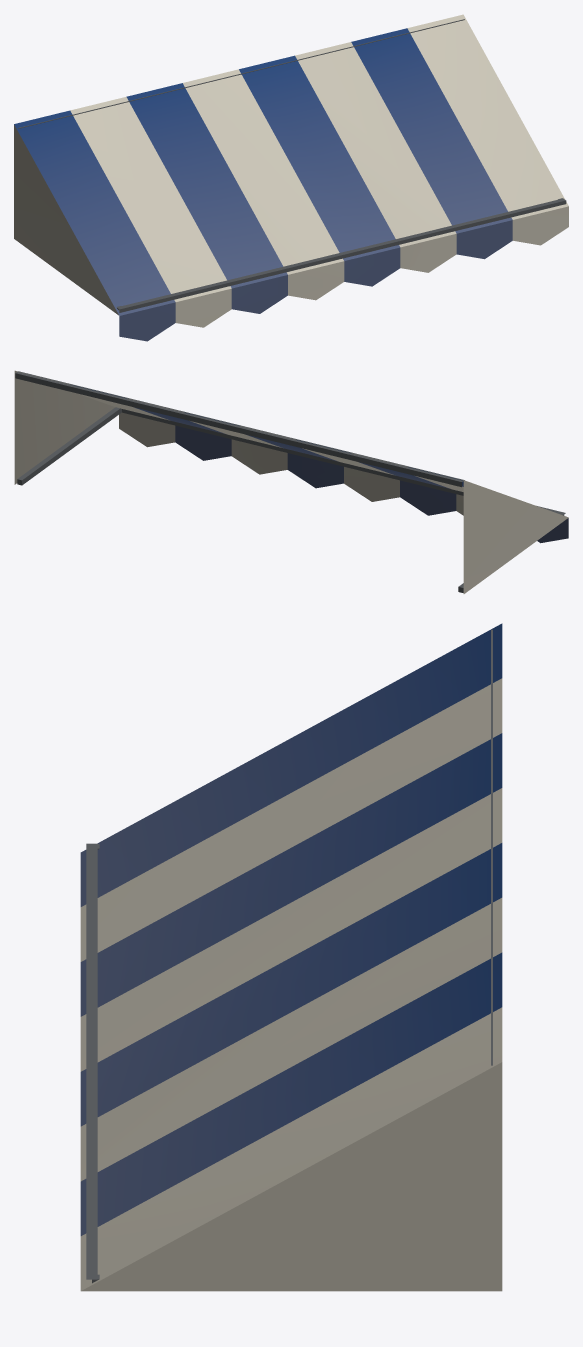
Rendered from shop.awning.blue.glb.
3 views of the same model, one above another, from view 1: azimuth 30°, elevation 25°; view 2: azimuth 150°, elevation 25°; view 3: azimuth 270°, elevation 25° (orthographic). The views are drawn at different scales.
Visible parts, largest first — view 1: shop_awning_blue; view 2: shop_awning_blue; view 3: shop_awning_blue.
Boxes of the visible parts, bbox=[...] form: shop_awning_blue: bbox=[14, 14, 568, 341]; shop_awning_blue: bbox=[14, 370, 568, 593]; shop_awning_blue: bbox=[80, 623, 502, 1291].
Size of what is drawn, in the model's own units: 3.2 by 1 by 1.3.
